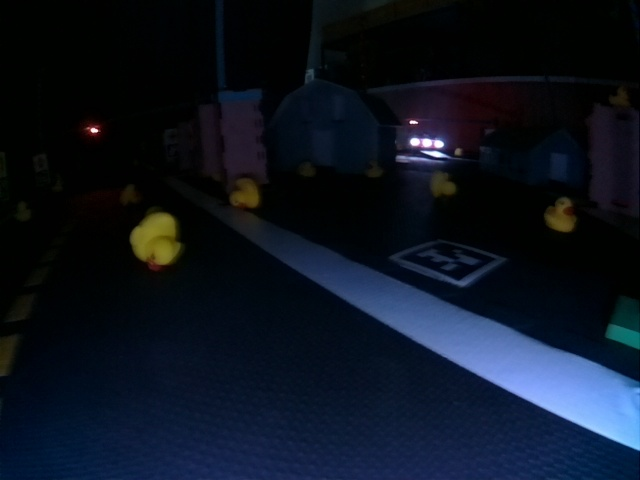Duckie: (130, 214, 183, 267), (543, 198, 578, 232), (229, 176, 261, 210), (428, 171, 456, 197), (608, 86, 631, 105), (120, 186, 140, 203), (298, 161, 317, 177), (15, 201, 27, 218)
QR code: (396, 238, 500, 287)
Traffic light: (89, 125, 99, 134)
